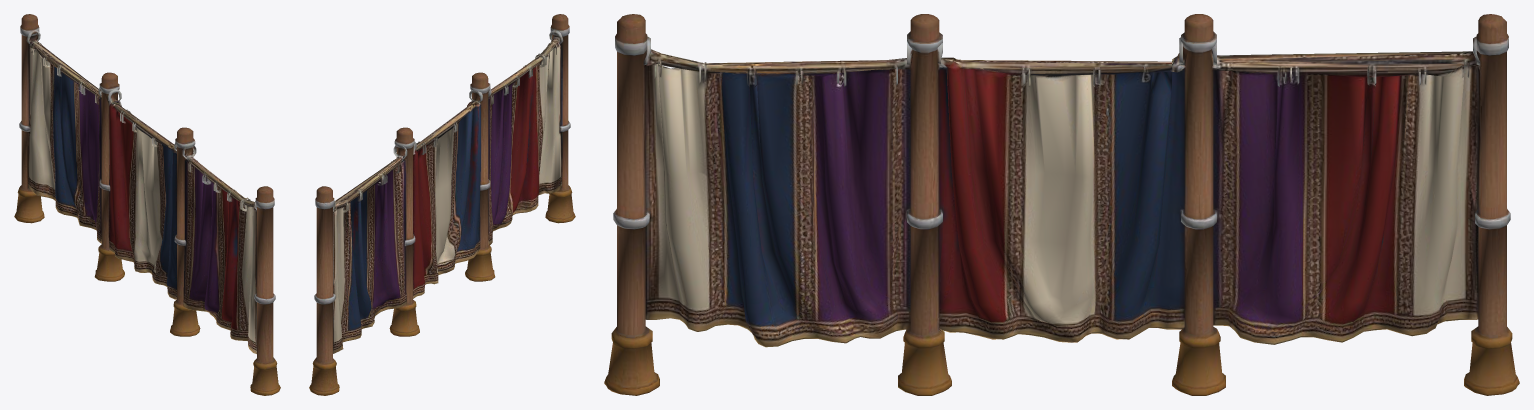
Rendered from sanctuary-entrance-gate-tripo-v31-v1.glb.
The picture shows the model from 3 angles, left to right: view 1: azimuth 30°, elevation 25°; view 2: azimuth 150°, elevation 25°; view 3: azimuth 270°, elevation 25°; orthographic projection. The views are drawn at different scales.
Visible parts, largest first — view 1: tripo_node_c51f696c-022f-4ccb-90cc-665399a6a5bd; view 2: tripo_node_c51f696c-022f-4ccb-90cc-665399a6a5bd; view 3: tripo_node_c51f696c-022f-4ccb-90cc-665399a6a5bd.
Boxes of the visible parts, x1,y1,x2,y2 form: tripo_node_c51f696c-022f-4ccb-90cc-665399a6a5bd: (14,14,280,395); tripo_node_c51f696c-022f-4ccb-90cc-665399a6a5bd: (309,14,575,395); tripo_node_c51f696c-022f-4ccb-90cc-665399a6a5bd: (604,14,1519,395).
Size of the model in its own units: 0.0607 by 0.4462 by 1.
Materials: 1 (1 with a texture image).
